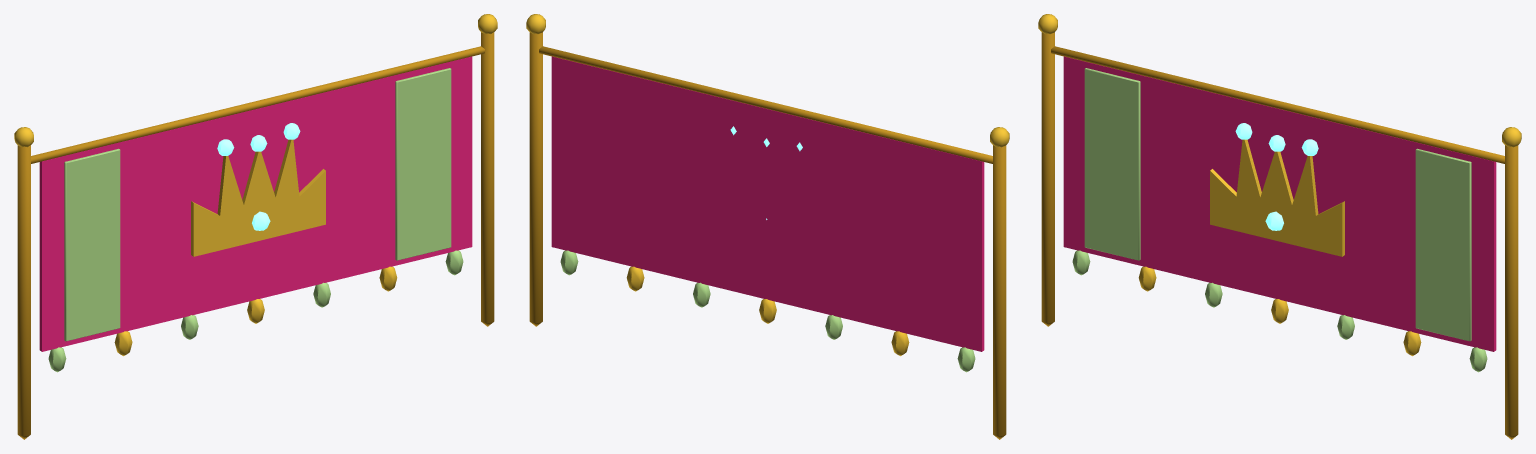
File: W6_Banner.fbx
3 renders of one model, left to right at view 1: azimuth 30°, elevation 25°; view 2: azimuth 150°, elevation 25°; view 3: azimuth 330°, elevation 25°, orthographic.
Parts seen in each view (by area): view 1: W6_Banner; view 2: W6_Banner; view 3: W6_Banner.
Boxes of the visible parts, box(x1,y1,x2,y2) form: W6_Banner: box(14, 14, 497, 439); W6_Banner: box(526, 14, 1009, 439); W6_Banner: box(1038, 14, 1521, 439).
Size of the model in its own units: 8.72 by 5.41 by 0.4478.
